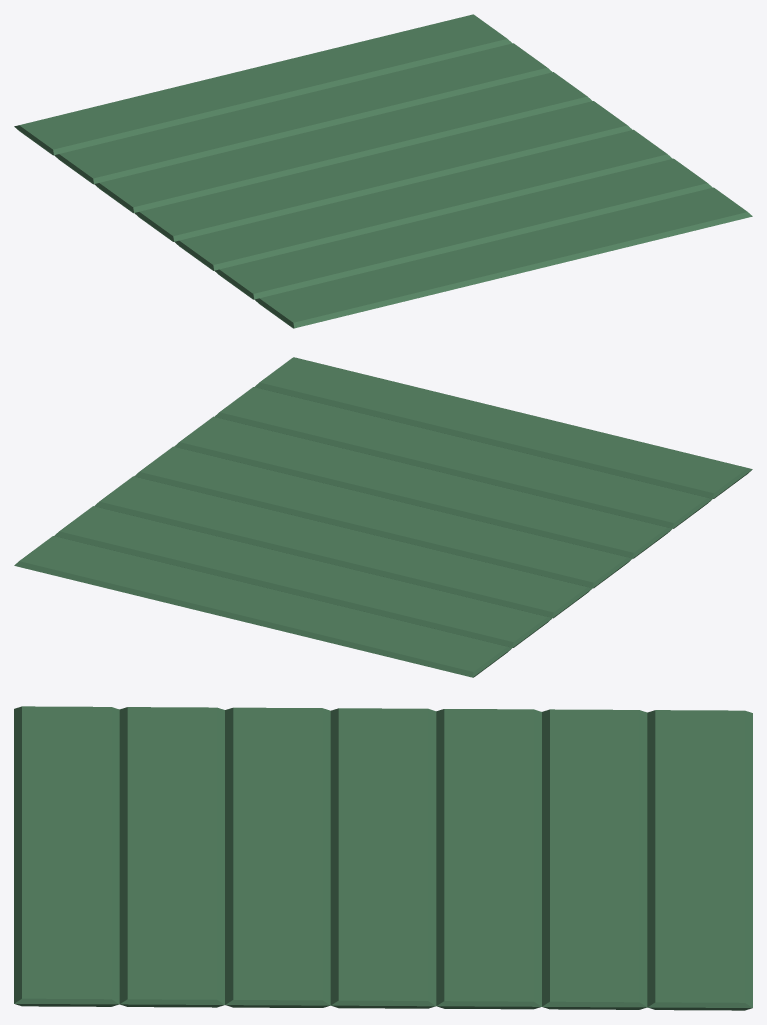
File: obrabotka_close.fbx
The picture shows the model from 3 angles, top to bottom: view 1: azimuth 30°, elevation 25°; view 2: azimuth 150°, elevation 25°; view 3: azimuth 270°, elevation 25°; orthographic projection. The views are drawn at different scales.
Parts seen in each view (by area): view 1: dveri3; view 2: dveri3; view 3: dveri3.
Part boxes in pixels (x1=…): dveri3: x1=14, y1=14, x2=752, y2=328; dveri3: x1=14, y1=357, x2=752, y2=677; dveri3: x1=14, y1=706, x2=752, y2=1010.
Bounding box in the file's own units: 18.6 × 0.3496 × 19.7.
